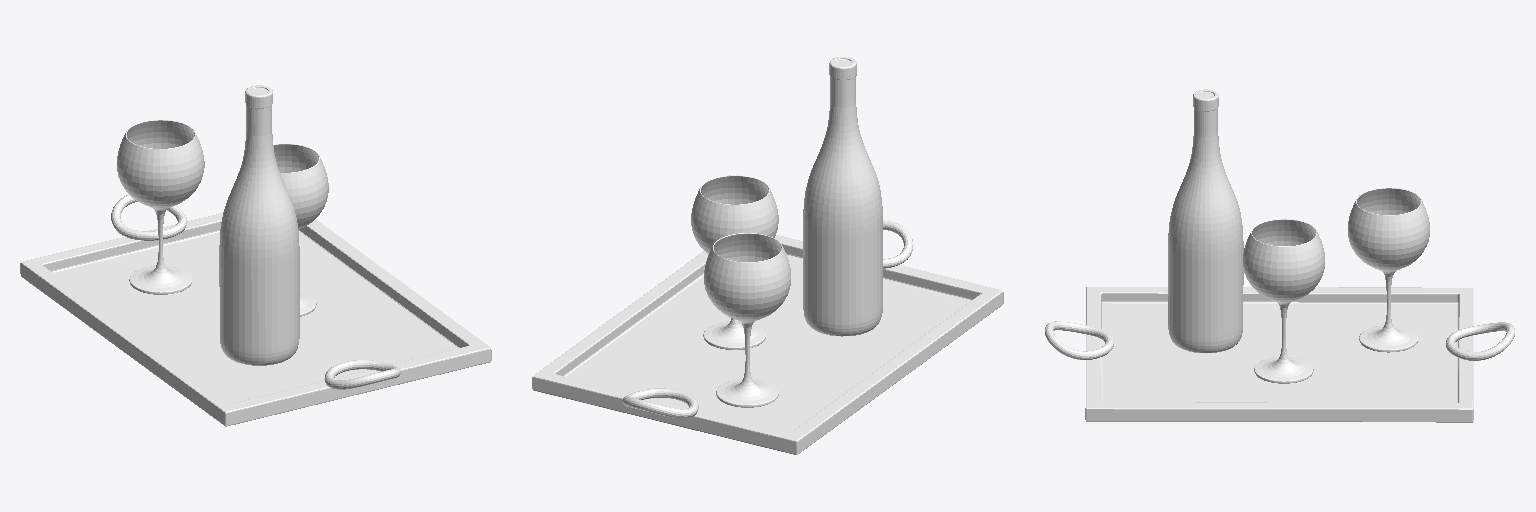
URDF robot description (set):
<?xml version="1.0"?>
<robot name="set">
  <link name="obstacle_base">
    <visual>
      <origin xyz="-2.41 -5.8 0.865" rpy="0 0 1.5707"/>
      <geometry>
        <mesh filename="package://iai_maps/meshes/set_wine.stl"/>
      </geometry>
      <material name="White">
		<color rgba="1 1 1 1"/>
	  </material>
    </visual>
	<collision>
      <origin xyz="-2.41 -5.8 0.865" rpy="0 0 1.5707"/>
      <geometry>
        <mesh filename="package://iai_maps/meshes/set_wine.stl"/>
      </geometry>
    </collision>
  </link>

  <!--<joint name="j_obstacle_base_bis" type="fixed">
    <origin rpy="0 0 0" xyz="0 0 0"/>
    <parent link="obstacle_base"/>
    <child link="obstacle_base_bis"/>
  </joint>

  <link name="obstacle_base_bis">
    <visual>
      <origin xyz="-2.4 -5.8 0.86" rpy="0 0 1.57079632679"/>
      <geometry>
        <mesh filename="package://iai_maps/meshes/set_wine.dae"/>
      </geometry>
    </visual>
	<collision>
      <origin xyz="-2.4 -5.8 0.86" rpy="0 0 1.57079632679"/>
      <geometry>
        <mesh filename="package://iai_maps/meshes/set_wine.stl"/>
      </geometry>
    </collision>
  </link>-->
</robot>

--- Render facts (derived) ---
Views: 3 orthographic renders of the robot side by side, from view 1: azimuth 30°, elevation 25°; view 2: azimuth 150°, elevation 25°; view 3: azimuth 270°, elevation 25°.
Model set with 1 links and 0 joints (none), rooted at obstacle_base, posed all joints at 0.
Links seen in each view (by area): view 1: obstacle_base; view 2: obstacle_base; view 3: obstacle_base.
Boxes of the visible links, <box> form: obstacle_base: <box>20,85,491,426</box>; obstacle_base: <box>532,57,1003,454</box>; obstacle_base: <box>1045,89,1514,422</box>.
Size in the robot's own frame: 0.5082 by 0.8258 by 0.4857 metres.
1 mesh visuals loaded from 1 distinct referenced files (1 binary STL).
